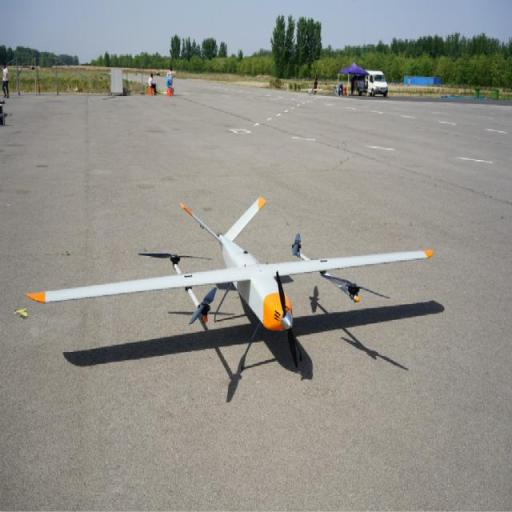uav: (24, 194, 438, 378)
